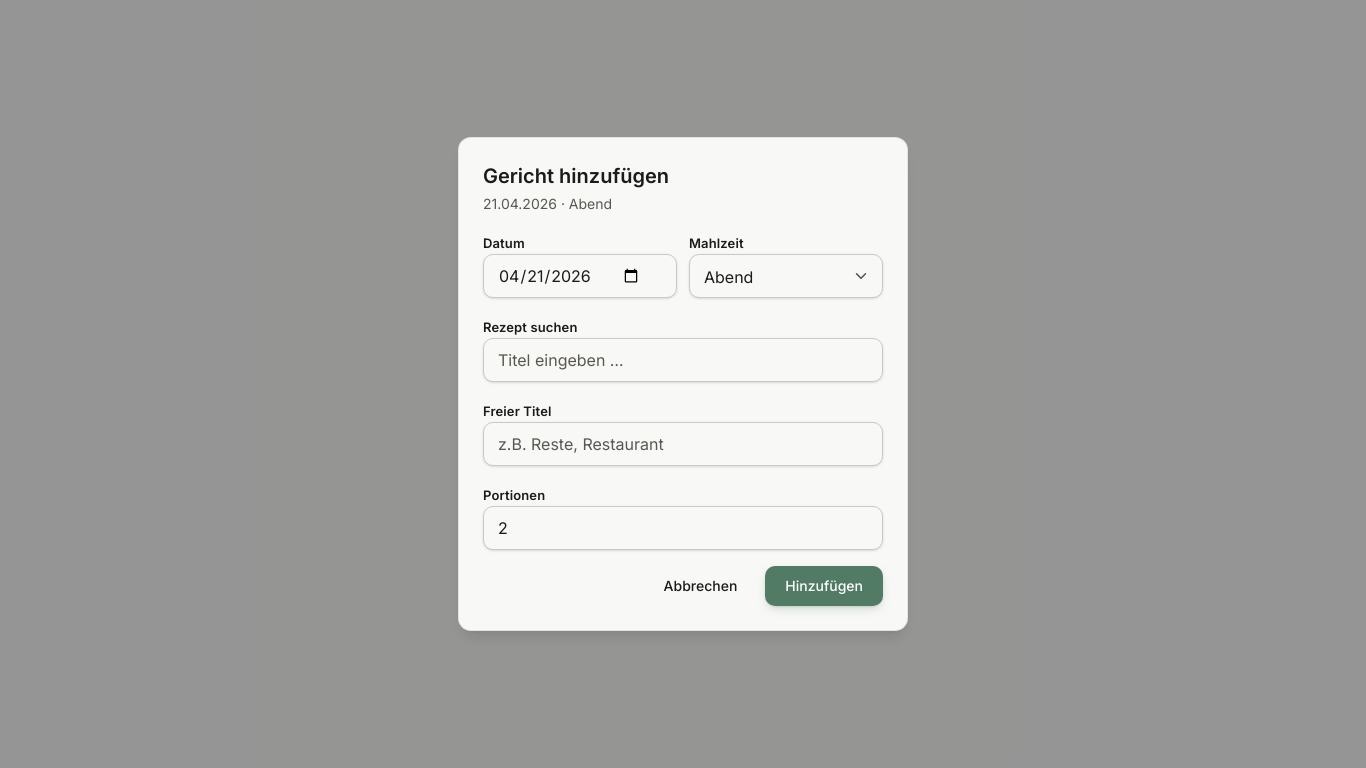
Test case: <AddSlotDialog /> › shows a validation error when neither a recipe nor a label is provided
Click the button "Hinzufügen" at (824,586), box left=765, top=566, right=883, bottom=606
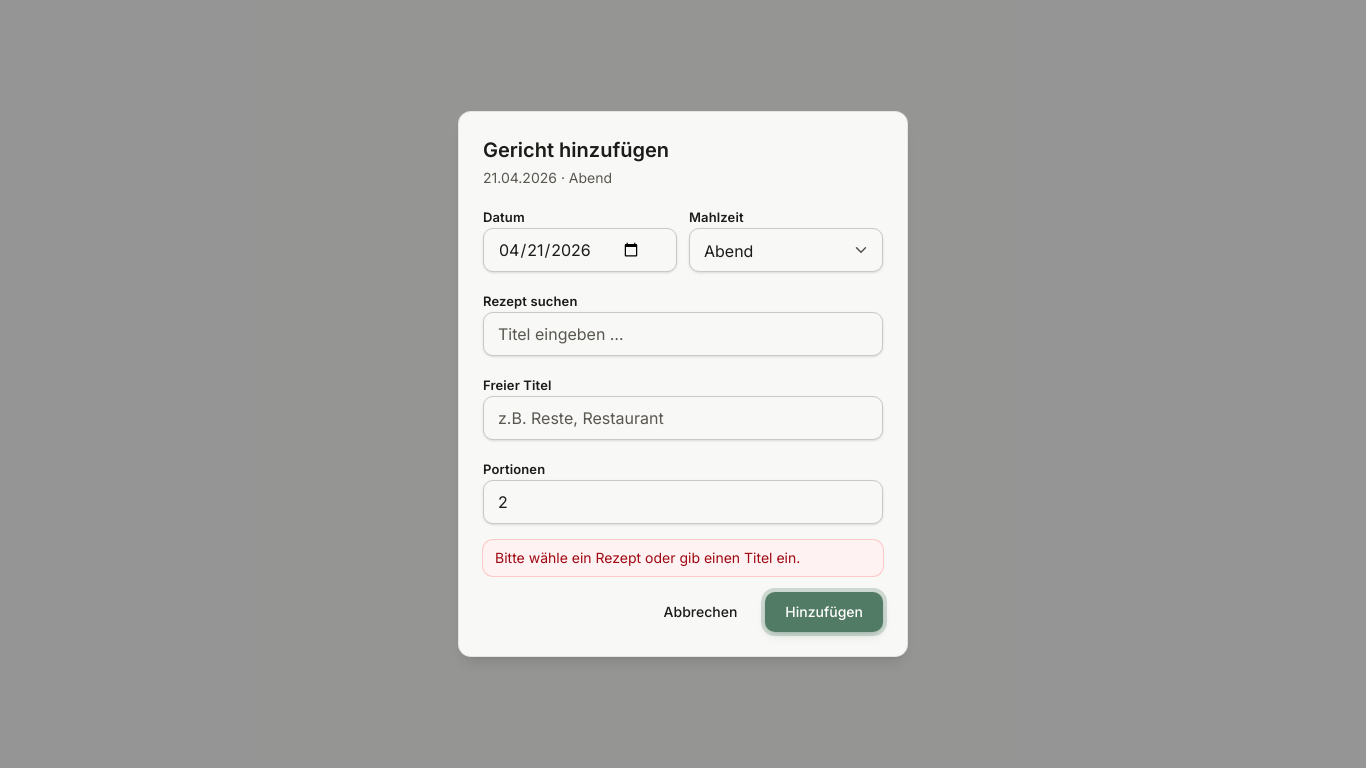
expect the message shows "Rezept oder gib einen Titel": met, box left=495, top=549, right=800, bottom=566
